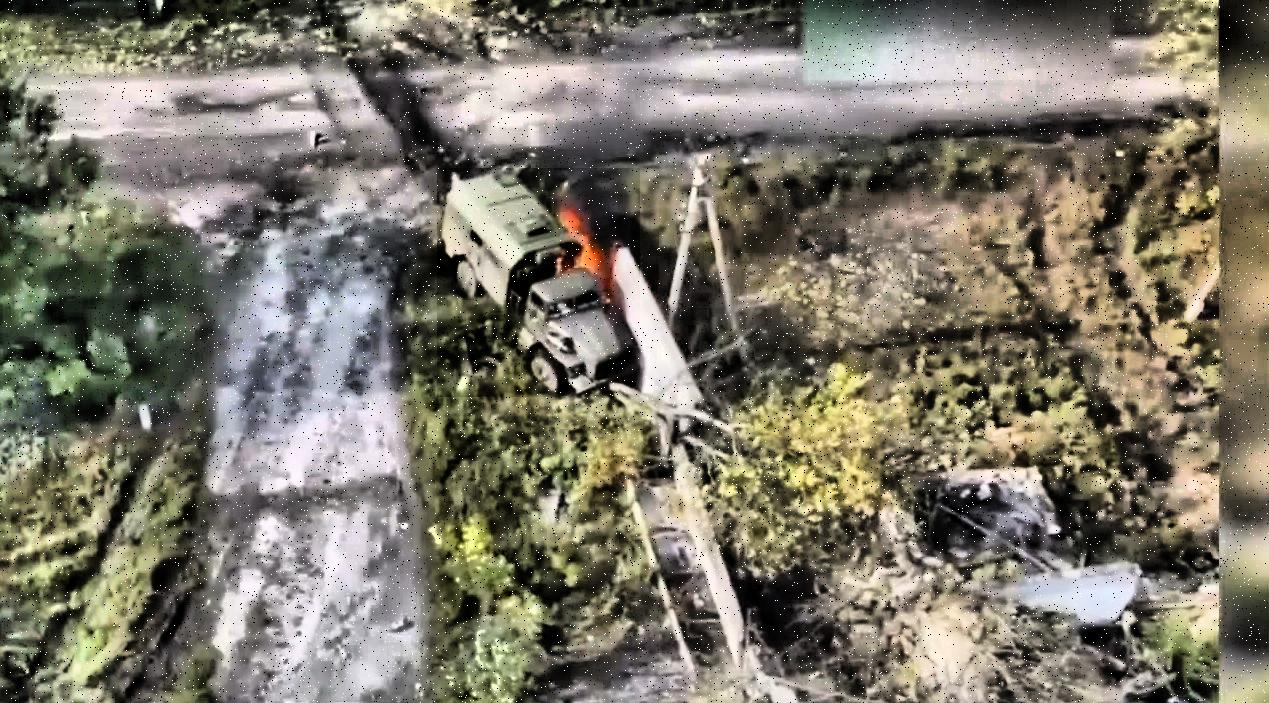military-vehicle: (438, 169, 641, 398)
